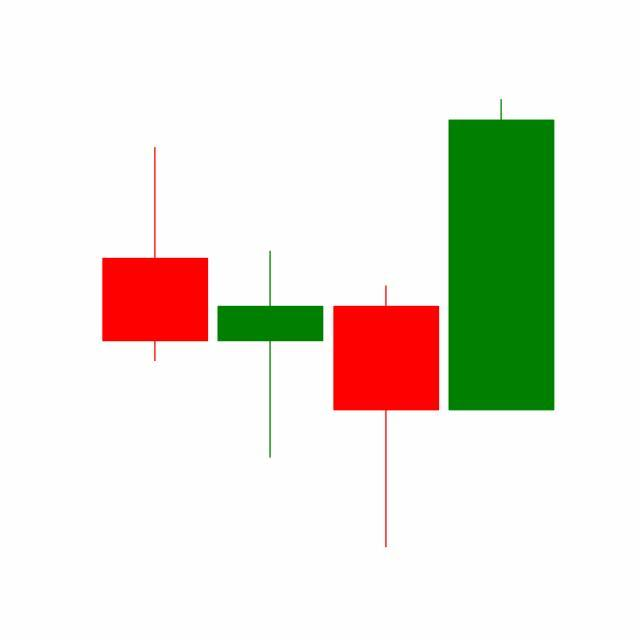Marubozu: (444, 96, 560, 414)
